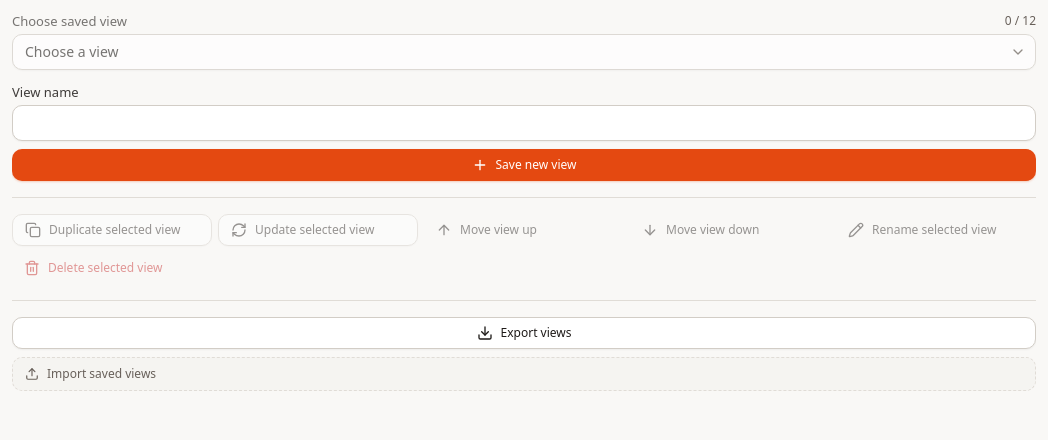
Test case: failed saves preserve entered name and never apply filters
Type "Work" into the field labelled "View name" at (524, 123), box [12,105,1036,141]
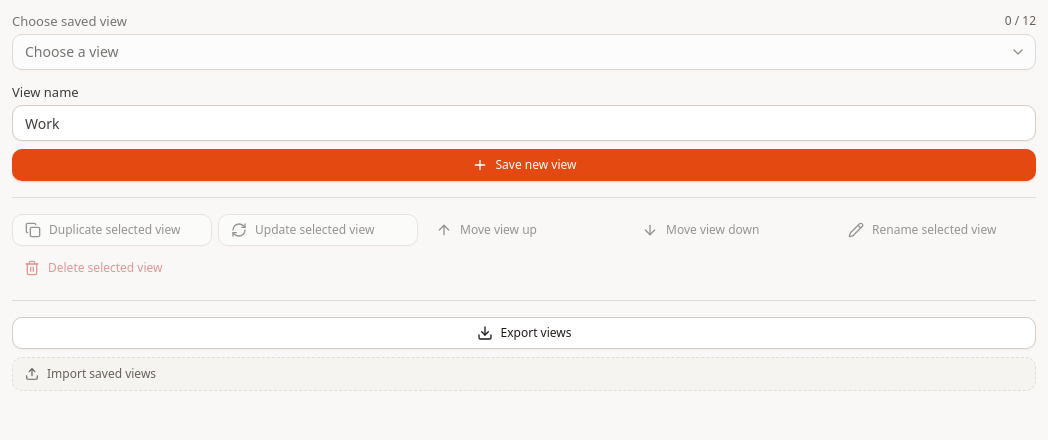
Click the button "Save new view" at (524, 165), box [12,149,1036,181]
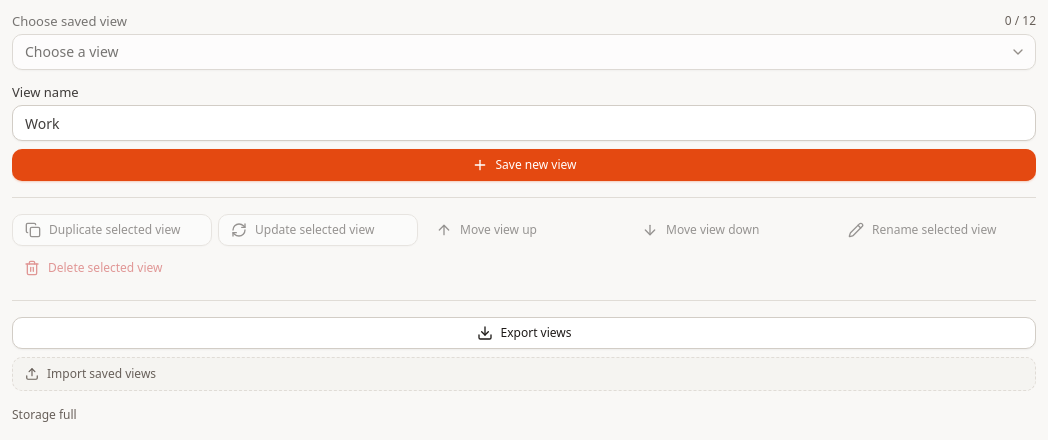
Check: the message reads "Storage full", box [12,406,77,423]
